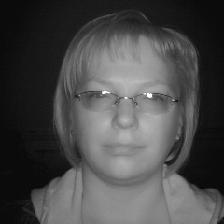normal: (45, 15, 209, 183)
